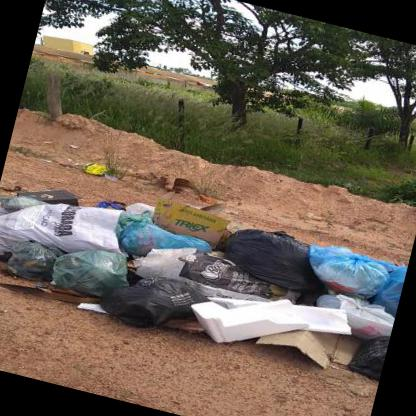lixo: (0, 165, 409, 379)
